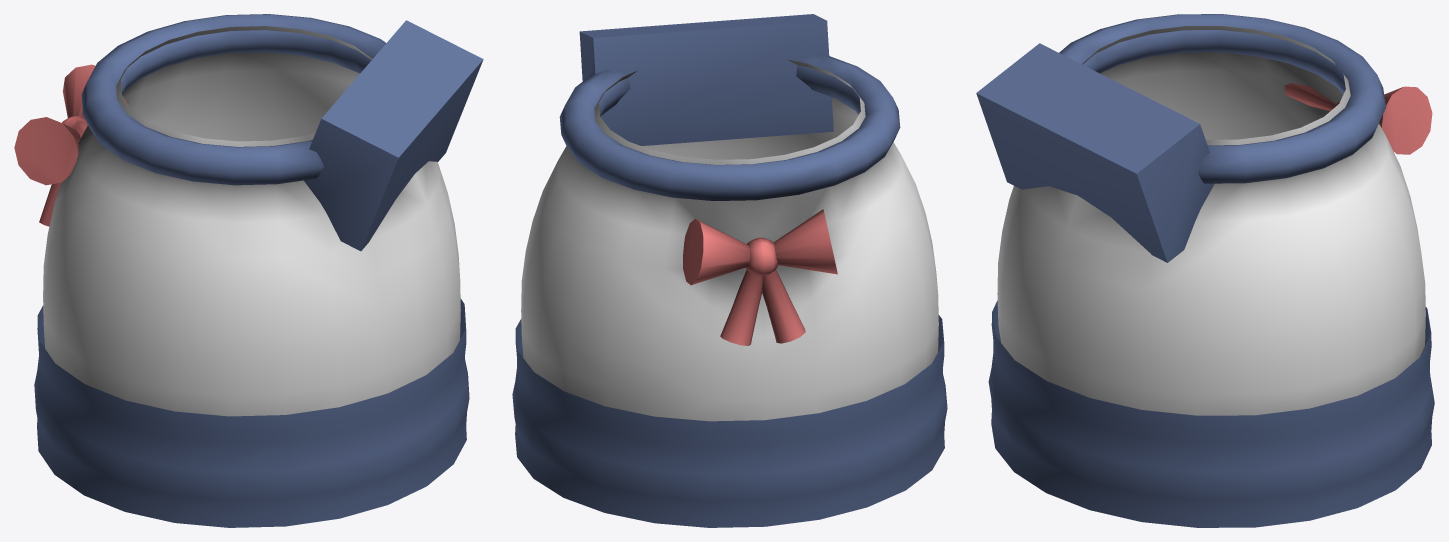
The model's file is schoolgirl_chest.fbx.
3 renders of one model, left to right at view 1: azimuth 30°, elevation 25°; view 2: azimuth 150°, elevation 25°; view 3: azimuth 270°, elevation 25°, orthographic. The views are drawn at different scales.
Visible parts, largest first — view 1: schoolgirl_chest; view 2: schoolgirl_chest; view 3: schoolgirl_chest.
Part boxes in pixels (x1,y1,x2,y2): schoolgirl_chest: [14, 14, 483, 527]; schoolgirl_chest: [512, 14, 947, 527]; schoolgirl_chest: [976, 14, 1434, 527].
Size of the model in its own units: 1.53 by 1.44 by 1.56.
